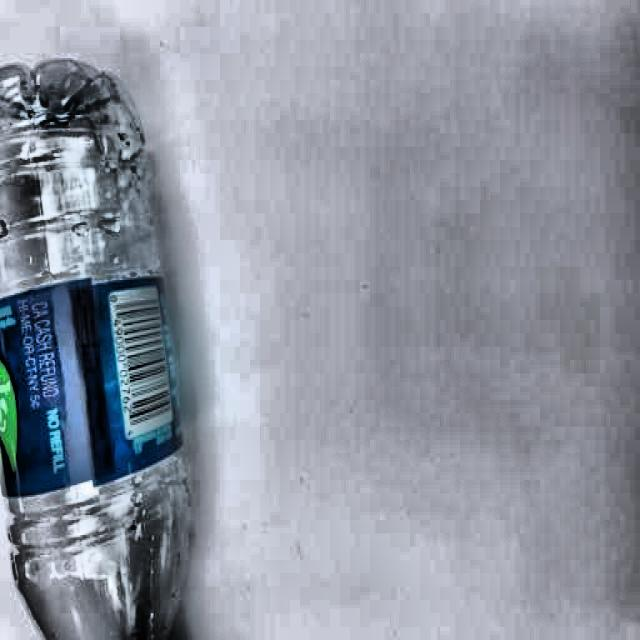plastic: (0, 55, 191, 640)
